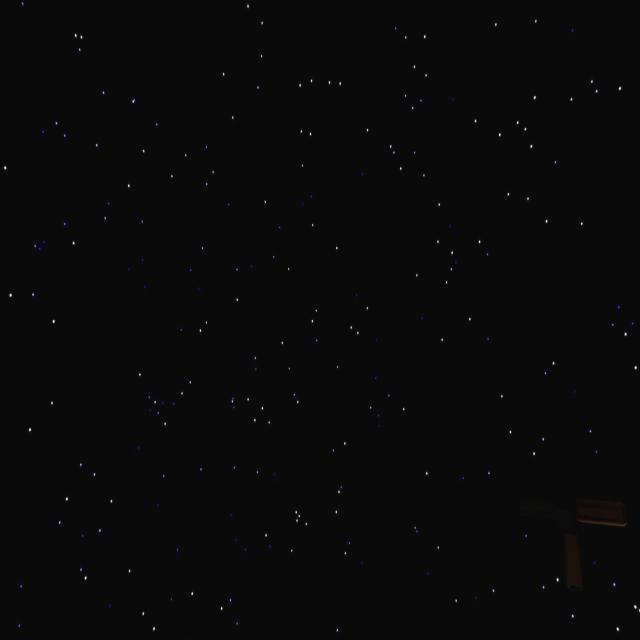medium_debris: (560, 488, 627, 596)
